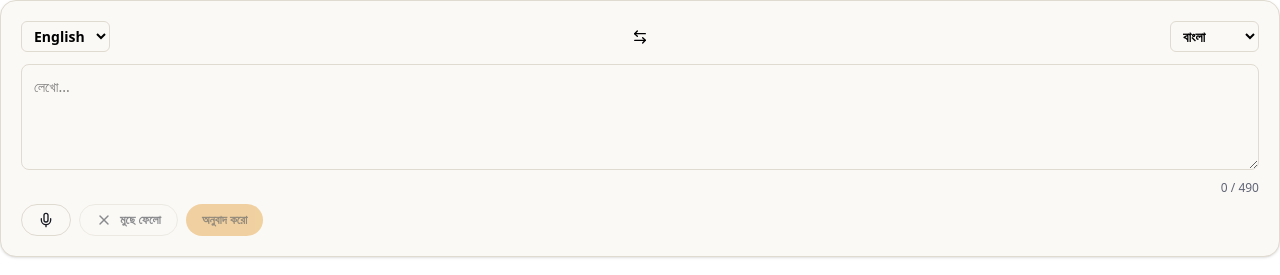
Test: TranslatorForm › keeps the typed text when swapping direction before translating
Type "hello" into the text box with placeholder "লেখো...". click: (640, 117)
box: [21,64,1259,170]
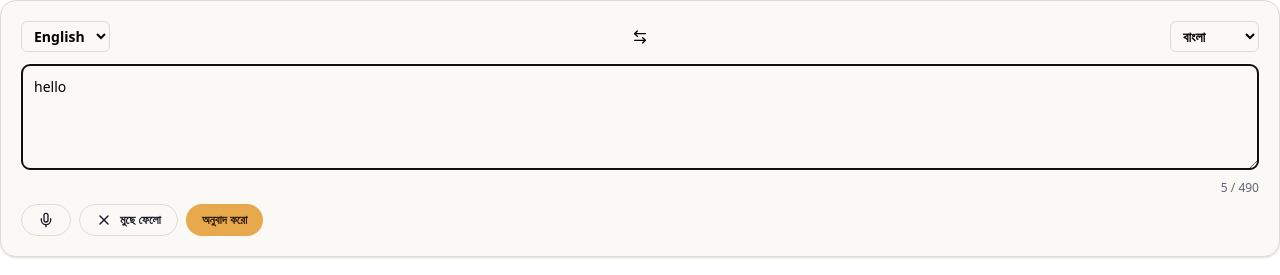
Click the button named "ভাষা বদলাও". click: click(640, 36)
box: [628,24,652,48]
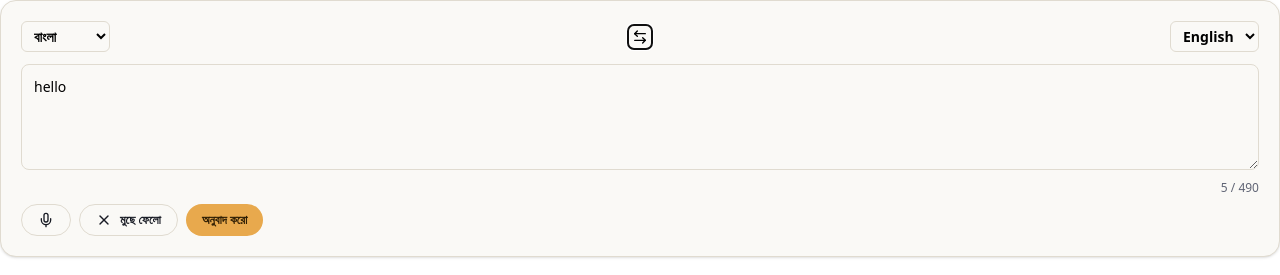
Expected: the dropdown named "যেটা থেকে" shows "বাংলা", [21,21,110,52]
Expected: the dropdown named "যেটাতে" shows "English", [1170,21,1259,52]
